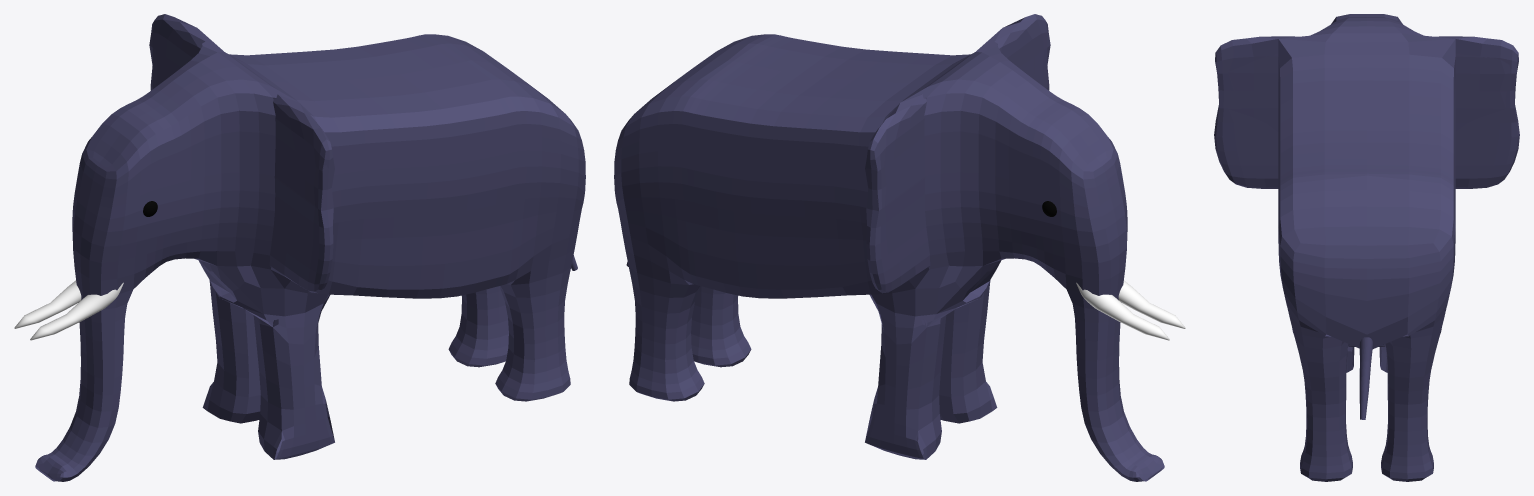
File: elephant_low_poly.glb
3 renders of one model, left to right at view 1: azimuth 30°, elevation 25°; view 2: azimuth 150°, elevation 25°; view 3: azimuth 270°, elevation 25°, orthographic. The views are drawn at different scales.
Visible parts, largest first — view 1: body, teeth, teeth.001; view 2: body, teeth.001, teeth; view 3: body, tail.
Part boxes in pixels (x1,y1,x2,y2): body: (35,14,585,481); teeth: (30,282,123,340); teeth.001: (14,280,81,328); body: (614,14,1164,481); teeth.001: (1076,282,1169,340); teeth: (1118,280,1185,328); body: (1214,14,1519,481); tail: (1359,337,1372,419).
Size of the model in its own units: 522 by 340 by 288.
